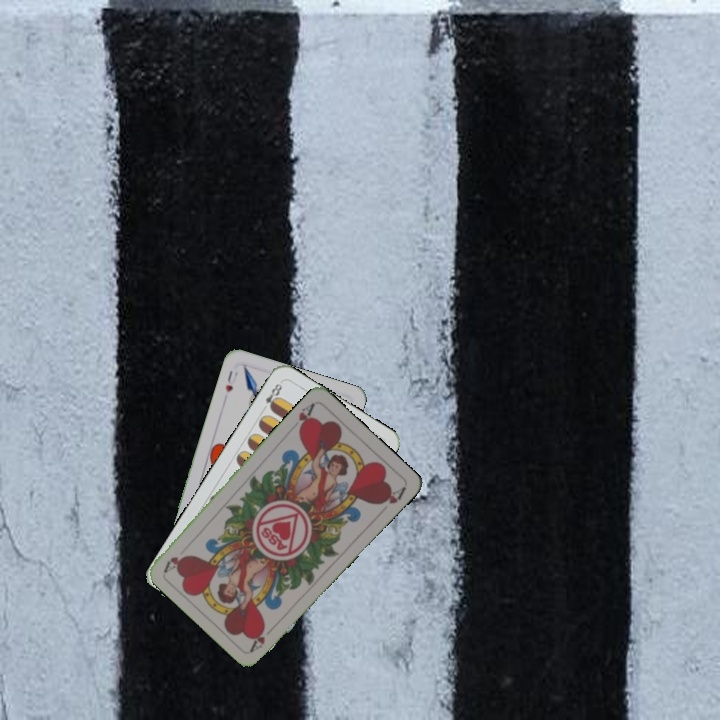E8: (258, 379, 285, 414)
HA: (294, 398, 318, 436), (246, 621, 269, 654)
HU: (221, 367, 240, 395)
